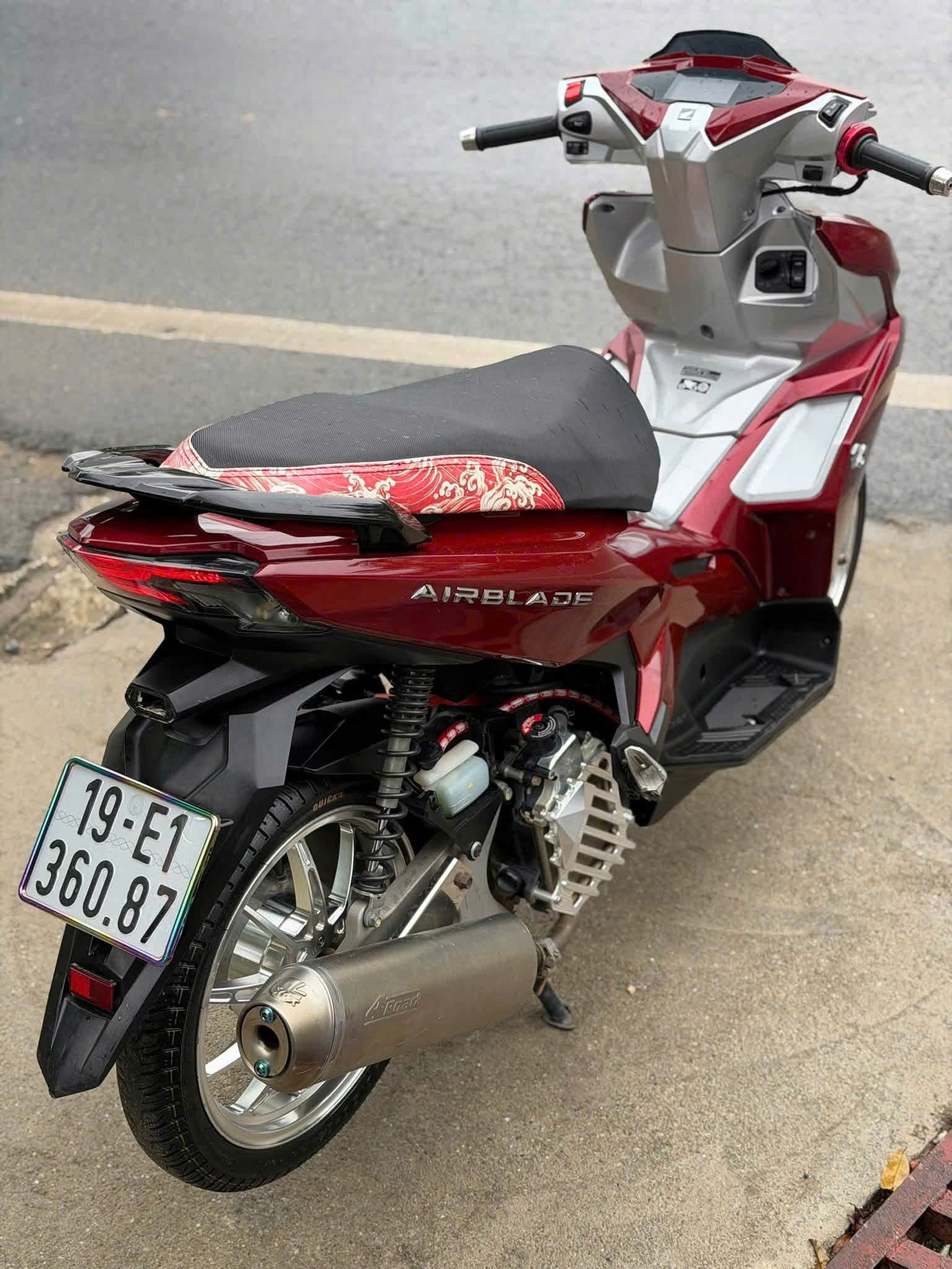Bien-so: (16, 752, 218, 961)
